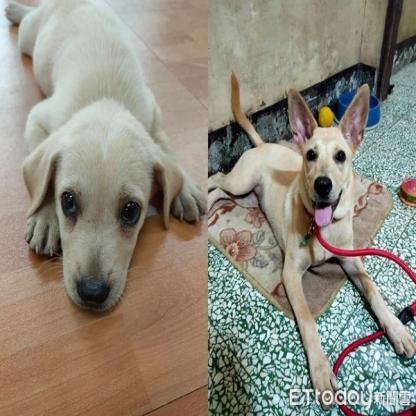Labarador Retriever: (7, 7, 205, 314)
